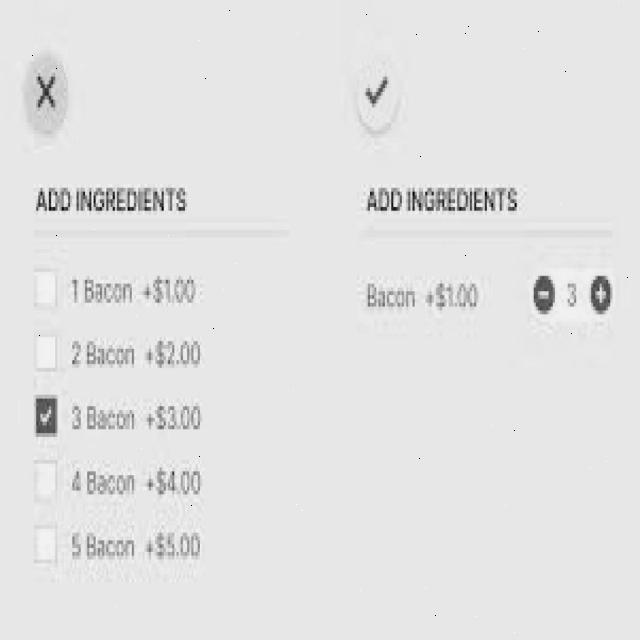button: (588, 268, 613, 318), (530, 271, 558, 315)
checkbox: (32, 518, 59, 567), (34, 392, 58, 437), (33, 459, 58, 498), (31, 271, 59, 305), (33, 333, 56, 372)
label: (356, 176, 529, 222), (67, 332, 210, 380), (66, 522, 207, 569), (67, 458, 213, 502), (30, 181, 193, 220), (358, 272, 487, 319), (67, 397, 209, 438), (66, 269, 207, 309), (564, 274, 580, 310)
radio: (19, 44, 72, 150), (354, 54, 404, 138)
